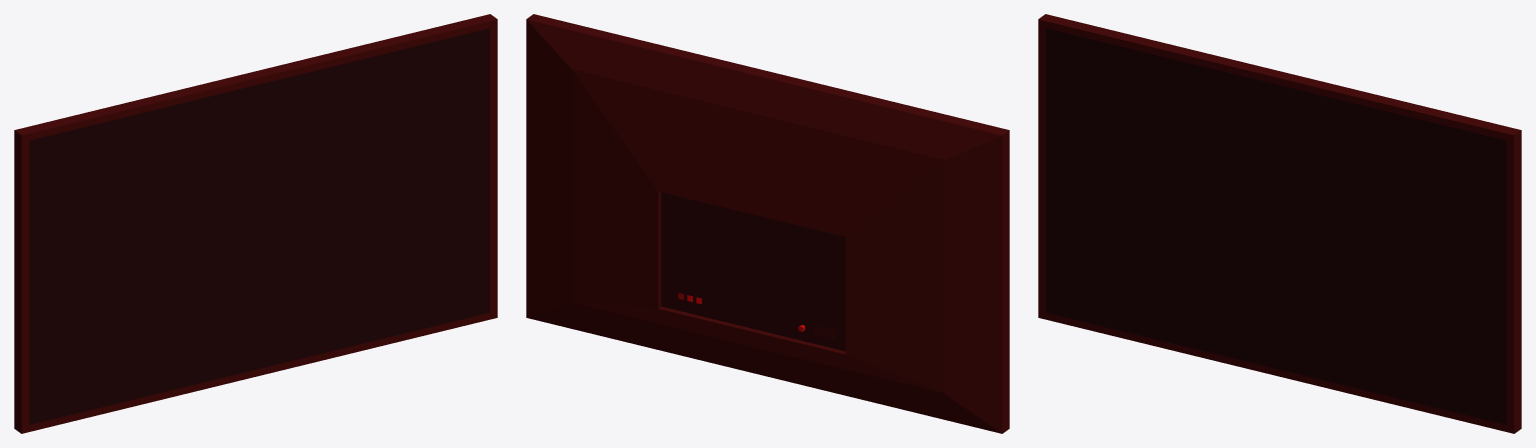
The picture shows the model from 3 angles, left to right: view 1: azimuth 30°, elevation 25°; view 2: azimuth 150°, elevation 25°; view 3: azimuth 330°, elevation 25°; orthographic projection.
Visible parts, largest first — view 1: TV; view 2: TV; view 3: TV.
Part boxes in pixels (x1,y1,x2,y2): TV: (14, 14, 497, 433); TV: (526, 14, 1009, 433); TV: (1038, 14, 1521, 433).
Bounding box in the file's own units: 8.64 × 5.18 × 0.6215.
